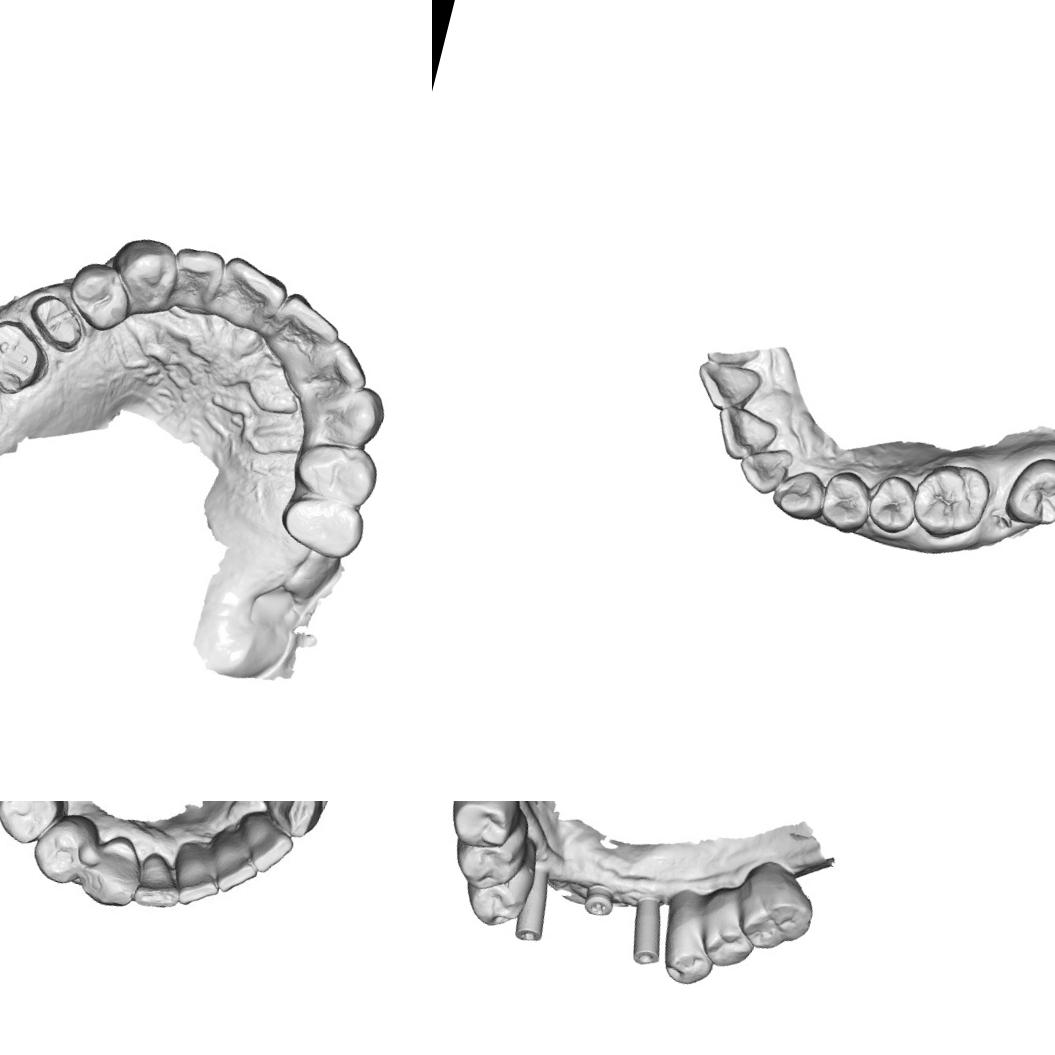canine: (104, 230, 184, 312), (321, 376, 390, 450), (79, 833, 145, 909), (241, 801, 341, 846), (766, 462, 831, 525)
crown: (0, 309, 57, 403), (20, 288, 92, 355)
implant: (508, 861, 560, 950), (621, 889, 676, 972)
implant_plus: (574, 874, 622, 926)
incisor: (211, 251, 293, 327), (269, 287, 348, 360), (688, 354, 764, 420), (708, 402, 782, 468), (163, 242, 229, 308), (234, 806, 296, 876), (130, 848, 192, 916), (733, 438, 796, 500), (205, 830, 264, 894), (315, 337, 377, 393), (168, 842, 223, 903)
molar: (730, 862, 825, 959), (905, 455, 995, 547), (443, 801, 529, 856), (1000, 449, 1055, 533)
premolar: (19, 802, 107, 890), (272, 490, 370, 566), (288, 434, 382, 510), (62, 257, 140, 336), (454, 831, 526, 898), (814, 466, 878, 538), (864, 470, 924, 538), (465, 872, 528, 934), (661, 929, 722, 992), (0, 801, 74, 850), (703, 908, 755, 968)
